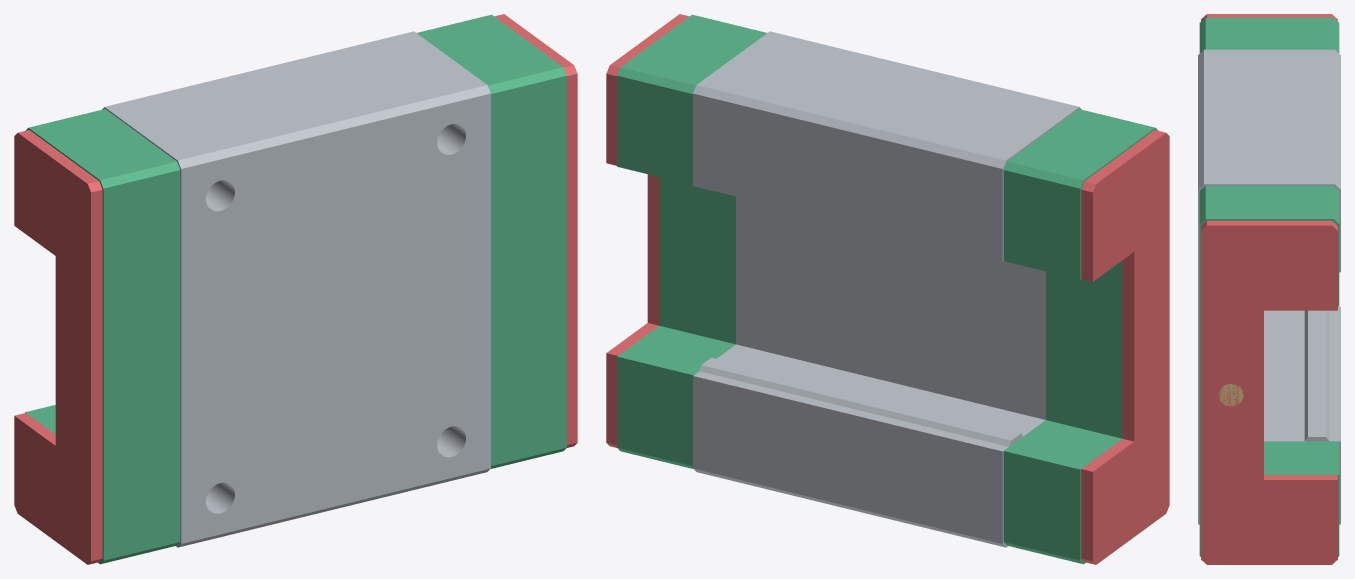
3 views of the same model, side by side, from view 1: azimuth 30°, elevation 25°; view 2: azimuth 150°, elevation 25°; view 3: azimuth 270°, elevation 25° (orthographic). The views are drawn at different scales.
Visible parts, largest first — view 1: steel_saddle, endcap_neg_x, endcap_pos_x, wiper_neg_x, wiper_pos_x; view 2: steel_saddle, endcap_neg_x, endcap_pos_x, wiper_neg_x, wiper_pos_x; view 3: wiper_pos_x, steel_saddle, endcap_pos_x, endcap_neg_x, wiper_neg_x, grease_port.
Boxes of the visible parts, left/top/right/bottom form: steel_saddle: left=102, top=31, right=490, bottom=547; endcap_neg_x: left=25, top=109, right=180, bottom=564; endcap_pos_x: left=417, top=14, right=566, bottom=468; wiper_neg_x: left=14, top=130, right=102, bottom=564; wiper_pos_x: left=494, top=14, right=577, bottom=447; steel_saddle: left=693, top=31, right=1081, bottom=547; endcap_neg_x: left=1003, top=109, right=1157, bottom=564; endcap_pos_x: left=617, top=14, right=766, bottom=468; wiper_neg_x: left=1081, top=130, right=1169, bottom=564; wiper_pos_x: left=606, top=14, right=689, bottom=447; wiper_pos_x: left=1201, top=220, right=1337, bottom=564; steel_saddle: left=1198, top=49, right=1340, bottom=524; endcap_pos_x: left=1199, top=185, right=1339, bottom=556; endcap_neg_x: left=1199, top=17, right=1339, bottom=306; wiper_neg_x: left=1201, top=14, right=1337, bottom=21; grease_port: left=1218, top=384, right=1243, bottom=406.
Bounding box in the file's own units: 0.0421 × 0.032 × 0.012.
